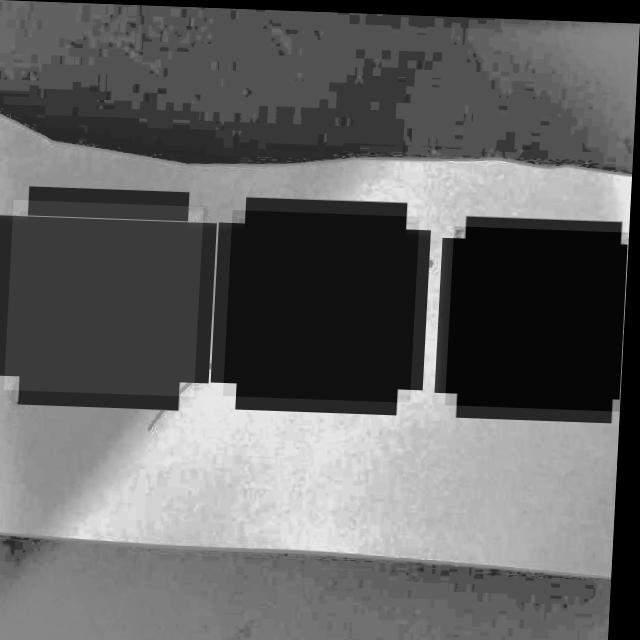qr_code: (8, 200, 206, 395), (227, 208, 422, 400), (449, 223, 631, 407)
